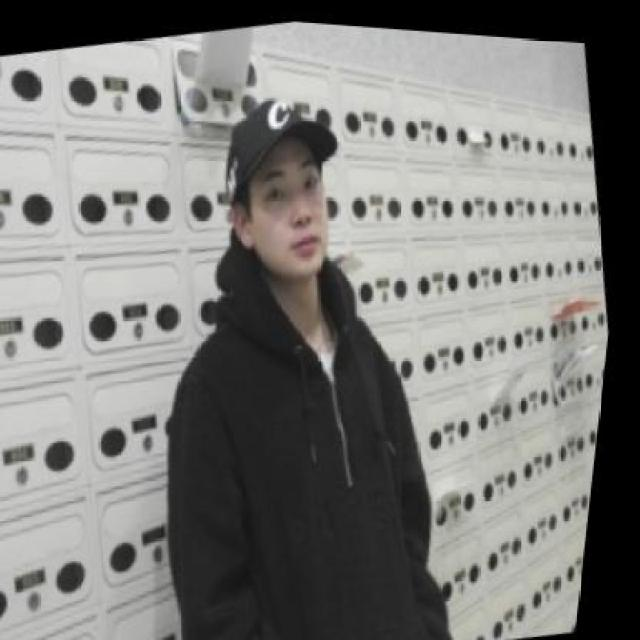hat: (213, 77, 356, 206)
